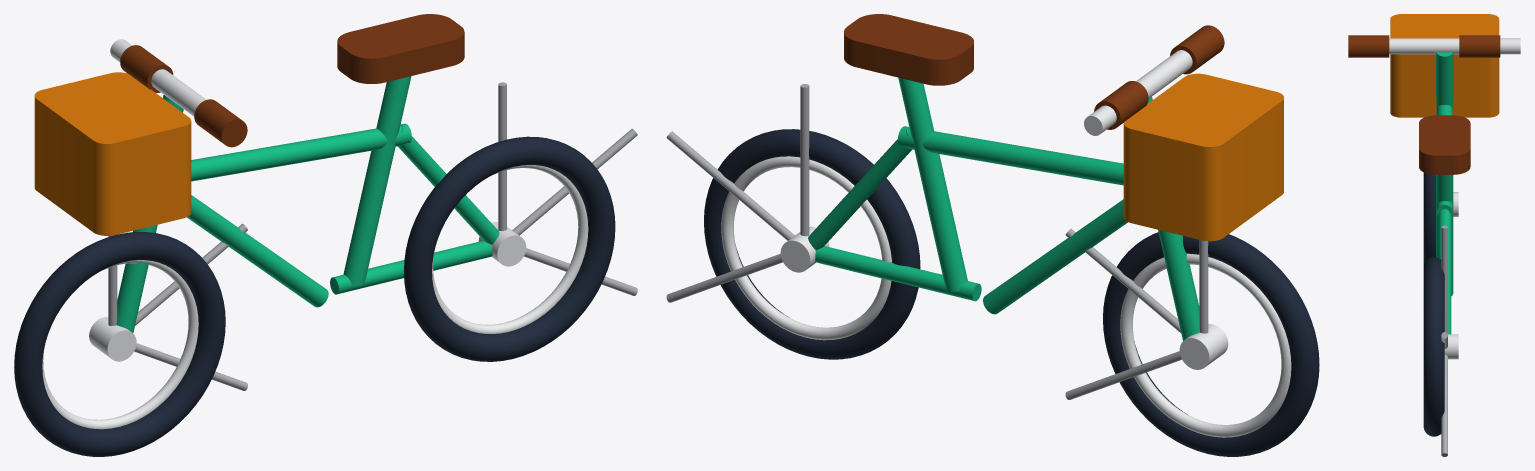
Rendered from bicycle.glb.
The picture shows the model from 3 angles, left to right: view 1: azimuth 30°, elevation 25°; view 2: azimuth 150°, elevation 25°; view 3: azimuth 270°, elevation 25°; orthographic projection. The views are drawn at different scales.
Visible parts, largest first — view 1: basket, tire_F, tire_B, saddle, seat_tube, top_tube, down_tube, wrim_B, wrim_F, chain_stay, rear_stay, front_fork (+10 smaller); view 2: basket, tire_F, tire_B, saddle, wrim_F, wrim_B, seat_tube, top_tube, down_tube, chain_stay, rear_stay, front_fork (+11 smaller); view 3: basket, tire_B, saddle, handlebars, tire_F, front_fork, bgrip_L, bgrip_R, seat_tube, rear_stay, sp_B_0, sp_B_120 (+2 smaller).
Boxes of the visible parts, x1=… form: basket: x1=34, y1=72, x2=191, y2=235; tire_F: x1=14, y1=232, x2=225, y2=456; tire_B: x1=404, y1=136, x2=615, y2=361; saddle: x1=337, y1=14, x2=464, y2=83; seat_tube: x1=343, y1=76, x2=411, y2=285; top_tube: x1=191, y1=123, x2=411, y2=181; down_tube: x1=187, y1=195, x2=328, y2=307; wrim_B: x1=432, y1=165, x2=588, y2=333; wrim_F: x1=42, y1=260, x2=198, y2=429; chain_stay: x1=330, y1=240, x2=492, y2=294; rear_stay: x1=398, y1=124, x2=499, y2=244; front_fork: x1=116, y1=95, x2=183, y2=332; basket: x1=1123, y1=73, x2=1283, y2=241; tire_F: x1=1103, y1=232, x2=1319, y2=456; tire_B: x1=704, y1=129, x2=920, y2=359; saddle: x1=844, y1=14, x2=973, y2=85; wrim_F: x1=1120, y1=253, x2=1291, y2=437; wrim_B: x1=721, y1=156, x2=891, y2=340; seat_tube: x1=898, y1=77, x2=967, y2=291; top_tube: x1=898, y1=126, x2=1123, y2=185; down_tube: x1=983, y1=199, x2=1127, y2=314; chain_stay: x1=815, y1=246, x2=981, y2=301; rear_stay: x1=808, y1=127, x2=912, y2=249; front_fork: x1=1147, y1=96, x2=1199, y2=340; basket: x1=1390, y1=14, x2=1499, y2=117; tire_B: x1=1423, y1=257, x2=1444, y2=436; saddle: x1=1419, y1=115, x2=1470, y2=174; handlebars: x1=1389, y1=38, x2=1520, y2=54; tire_F: x1=1423, y1=172, x2=1435, y2=265; front_fork: x1=1436, y1=52, x2=1453, y2=109; bgrip_L: x1=1348, y1=35, x2=1389, y2=57; bgrip_R: x1=1459, y1=35, x2=1500, y2=57; seat_tube: x1=1436, y1=175, x2=1453, y2=295; rear_stay: x1=1438, y1=202, x2=1451, y2=334; sp_B_0: x1=1441, y1=225, x2=1447, y2=333; sp_B_120: x1=1441, y1=355, x2=1447, y2=456.
Size of the model in its own units: 0.8217 by 0.452 by 0.261.
